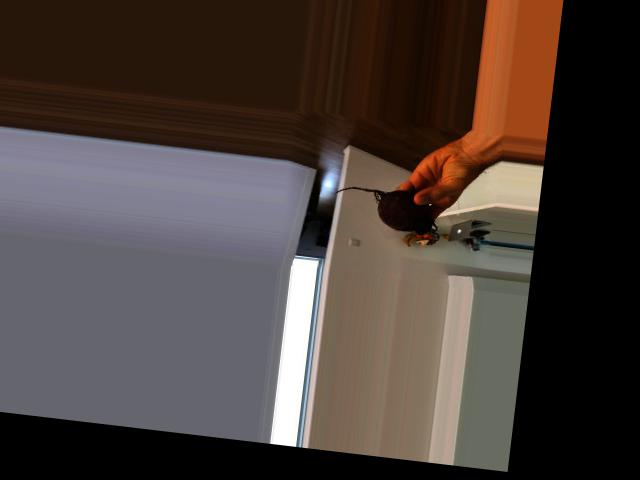beet: (331, 182, 440, 236)
